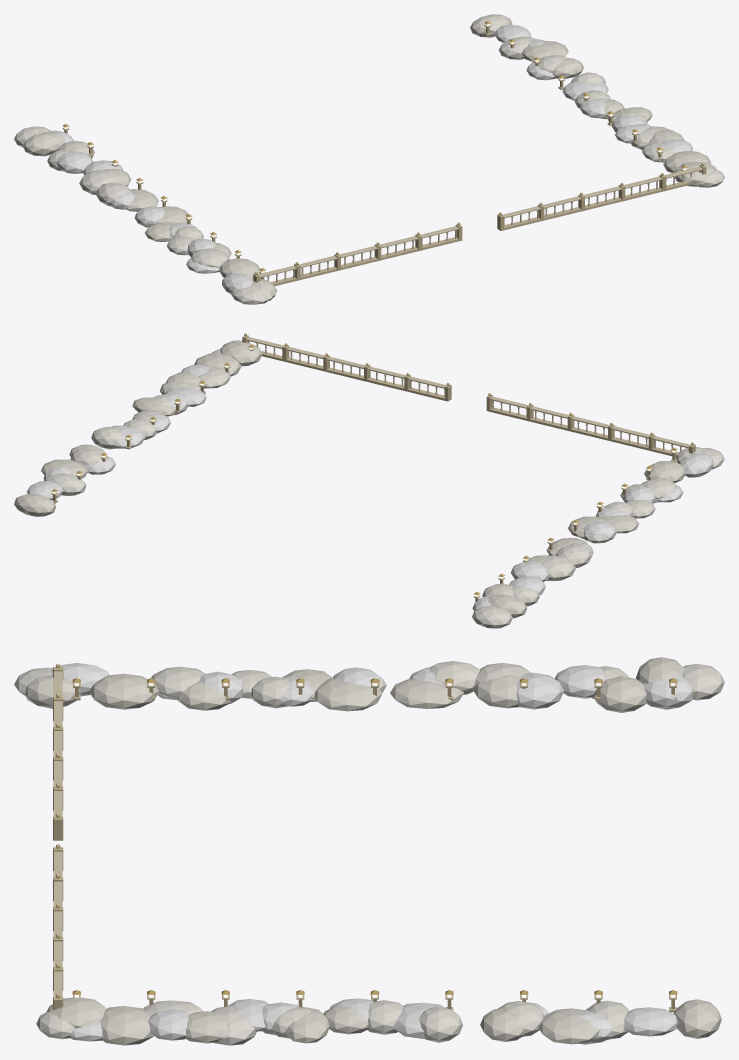
The model's file is plaza.glb.
3 renders of one model, top to bottom at view 1: azimuth 30°, elevation 25°; view 2: azimuth 150°, elevation 25°; view 3: azimuth 270°, elevation 25°, orthographic. The views are drawn at different scales.
Parts seen in each view (by area): view 1: heaven_plaza; view 2: heaven_plaza; view 3: heaven_plaza.
Part boxes in pixels (left/top/right/bottom): heaven_plaza: left=14, top=14, right=724, bottom=304; heaven_plaza: left=14, top=333, right=724, bottom=628; heaven_plaza: left=14, top=657, right=724, bottom=1045.
Bounding box in the file's own units: 47.87 × 2.45 × 38.15.
